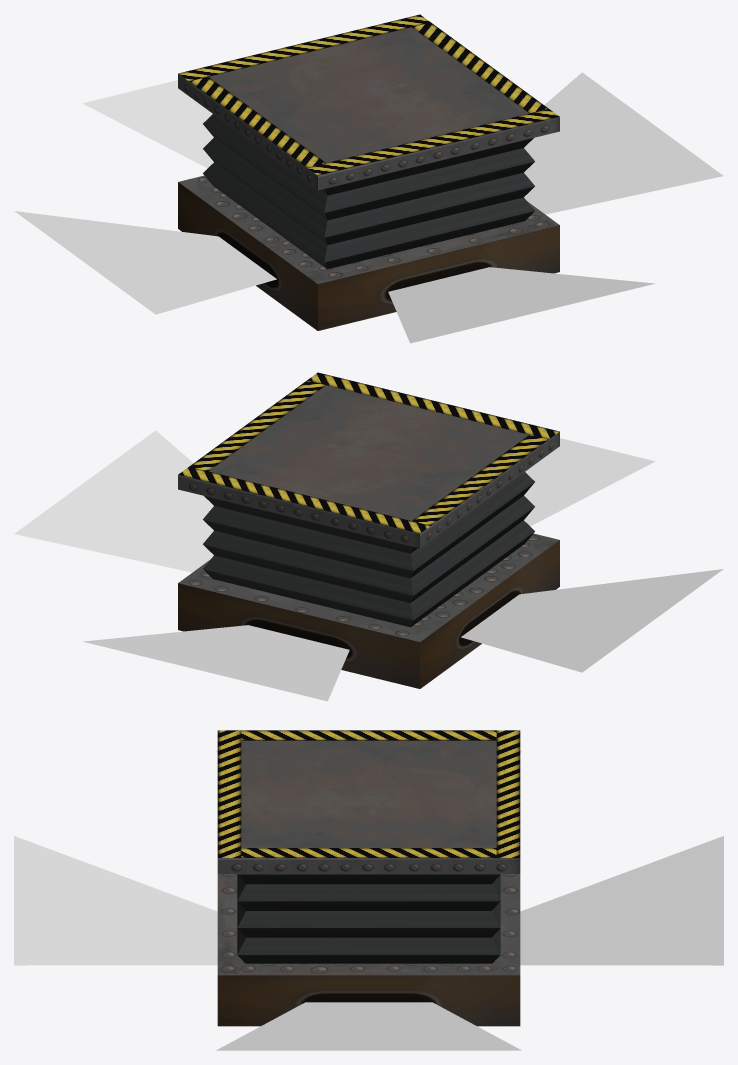
Rendered from MoltenBellows.fbx.
The picture shows the model from 3 angles, top to bottom: view 1: azimuth 30°, elevation 25°; view 2: azimuth 150°, elevation 25°; view 3: azimuth 270°, elevation 25°; orthographic projection. The views are drawn at different scales.
Visible parts, largest first — view 1: Steam, Platform, Spring, Base; view 2: Steam, Platform, Spring, Base; view 3: Steam, Platform, Spring, Base.
Part boxes in pixels (<box>): Steam: <box>14,72,723,343</box>; Platform: <box>178,14,559,190</box>; Spring: <box>203,114,534,269</box>; Base: <box>178,175,559,330</box>; Steam: <box>14,430,723,701</box>; Platform: <box>178,372,559,548</box>; Spring: <box>203,472,534,627</box>; Base: <box>178,533,559,688</box>; Steam: <box>14,750,723,1050</box>; Platform: <box>217,730,520,873</box>; Spring: <box>237,874,500,963</box>; Base: <box>217,874,520,1026</box>.
Bounding box in the file's own units: 1220 × 319 × 1220.
